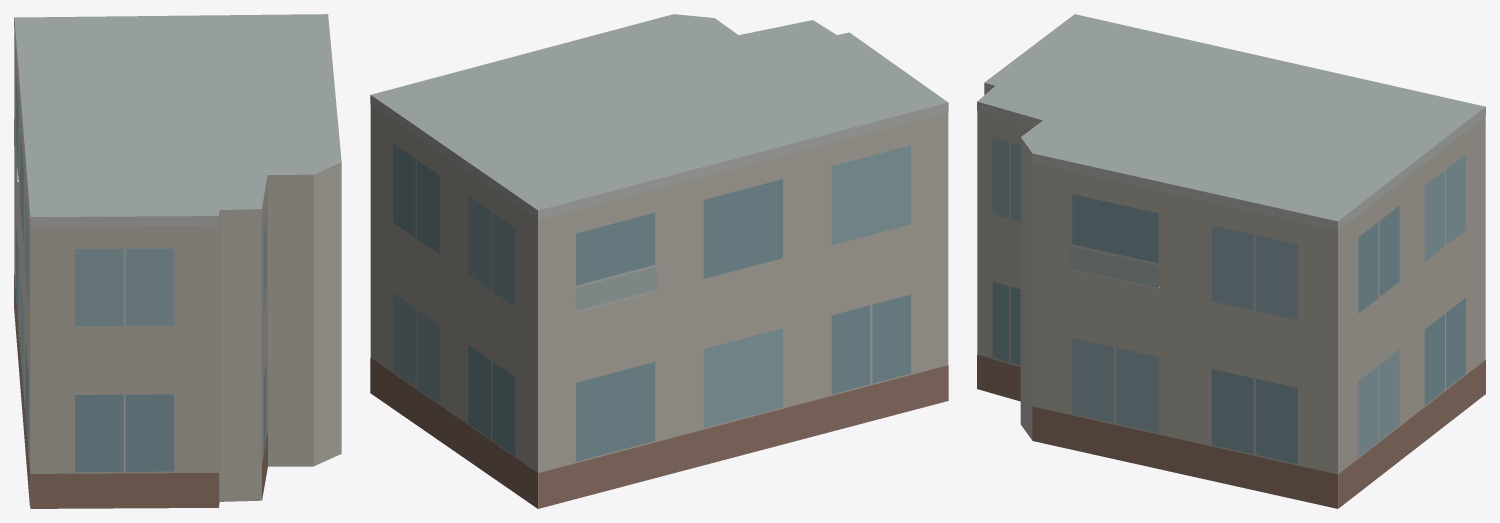
The model's file is survey-upis-32487275.glb.
The picture shows the model from 3 angles, left to right: view 1: azimuth 30°, elevation 25°; view 2: azimuth 150°, elevation 25°; view 3: azimuth 270°, elevation 25°; orthographic projection. The views are drawn at different scales.
Visible parts, largest first — view 1: survey-upis-32487275.tmp; view 2: survey-upis-32487275.tmp; view 3: survey-upis-32487275.tmp.
Boxes of the visible parts, x1,y1,x2,y2 form: survey-upis-32487275.tmp: [14, 14, 341, 508]; survey-upis-32487275.tmp: [370, 14, 948, 508]; survey-upis-32487275.tmp: [977, 14, 1485, 508].
Bounding box in the file's own units: 11.31 × 7.3 × 11.71.
